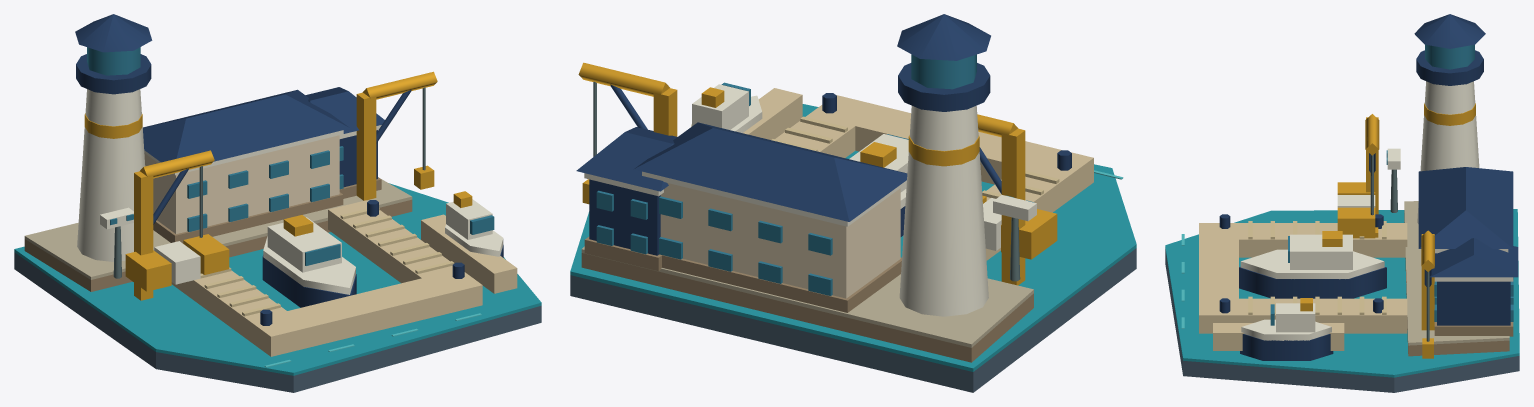
The model's file is port-lv3.glb.
3 renders of one model, left to right at view 1: azimuth 30°, elevation 25°; view 2: azimuth 150°, elevation 25°; view 3: azimuth 270°, elevation 25°, orthographic. The views are drawn at different scales.
Parts seen in each view (by area): view 1: foundation_water, pier_stone, foundation_slate, warehouse_cream, warehouse_roof_naval, lighthouse_white, cranes_ochre, vessel_white, quay_paving, outer_pier_stone, cargo_ochre, warehouse_windows_glass (+18 smaller); view 2: lighthouse_white, foundation_water, warehouse_cream, warehouse_roof_naval, foundation_slate, pier_stone, quay_stoneDark, quay_paving, cranes_ochre, warehouse_windows_glass, warehouse_stoneDark, warehouse_annex_roof_naval (+18 smaller); view 3: foundation_water, pier_stone, warehouse_roof_naval, vessel_white, foundation_slate, vessel_naval, lighthouse_white, warehouse_annex_naval, quay_paving, warehouse_annex_roof_naval, cranes_ochre, lighthouse_roof_naval (+13 smaller).
Boxes of the visible parts, x1,y1,x2,y2 form: foundation_water: (14, 183, 541, 375); pier_stone: (171, 200, 482, 356); foundation_slate: (14, 252, 541, 392); warehouse_cream: (144, 135, 339, 233); warehouse_roof_naval: (143, 89, 349, 162); lighthouse_white: (77, 89, 145, 261); cranes_ochre: (134, 71, 437, 300); vessel_white: (263, 199, 503, 294); quay_paving: (24, 179, 412, 279); outer_pier_stone: (421, 214, 517, 293); cargo_ochre: (125, 234, 229, 291); warehouse_windows_glass: (187, 150, 329, 231); lighthouse_white: (899, 105, 988, 316); foundation_water: (570, 104, 1136, 371); warehouse_cream: (660, 183, 900, 298); warehouse_roof_naval: (633, 122, 907, 221); foundation_slate: (570, 248, 1136, 392); pier_stone: (775, 95, 1093, 260); quay_stoneDark: (581, 253, 1033, 362); quay_paving: (581, 246, 1033, 347); cranes_ochre: (578, 62, 1025, 285); warehouse_windows_glass: (659, 196, 832, 295); warehouse_stoneDark: (660, 254, 901, 312); warehouse_annex_roof_naval: (576, 127, 677, 191); foundation_water: (1165, 209, 1519, 377); pier_stone: (1199, 223, 1407, 333); warehouse_roof_naval: (1418, 167, 1513, 248); vessel_white: (1240, 234, 1384, 340); foundation_slate: (1165, 250, 1519, 392); vessel_naval: (1239, 267, 1386, 360); lighthouse_white: (1417, 81, 1479, 223); warehouse_annex_naval: (1437, 281, 1510, 325); quay_paving: (1404, 201, 1509, 345); warehouse_annex_roof_naval: (1430, 238, 1518, 277); cranes_ochre: (1365, 114, 1434, 330); lighthouse_roof_naval: (1414, 14, 1485, 48).
Bounding box in the file's own units: 1 × 0.6751 × 0.9036.
